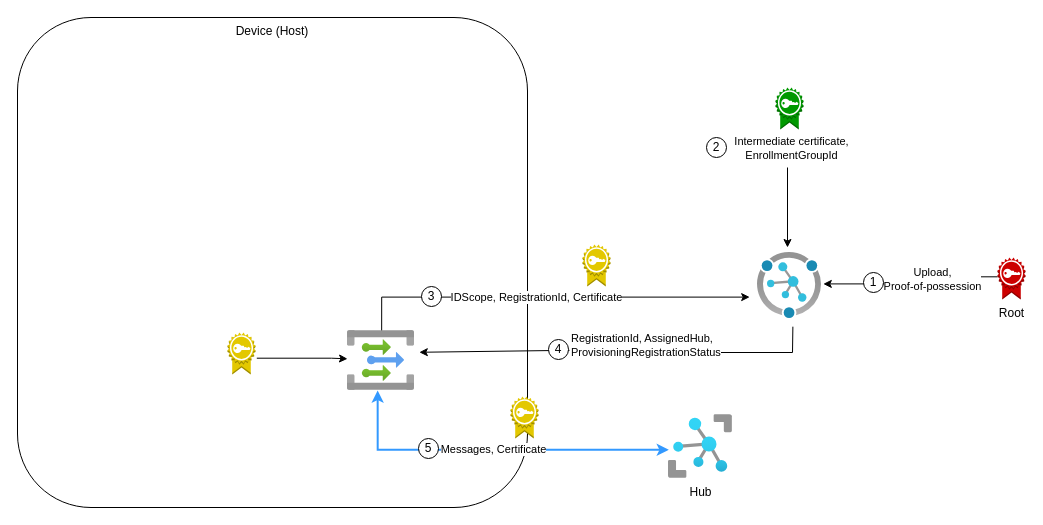
Some shapes in this 1043 by 525 pixel diagram are drawn without their labels. The shapes that lost their labels are listed below. From the top down, each one's centre as x and y in pixels, then its label:
the point at 789,285: DPS
the point at 241,353: Device certificate
the point at 380,360: Device Process
